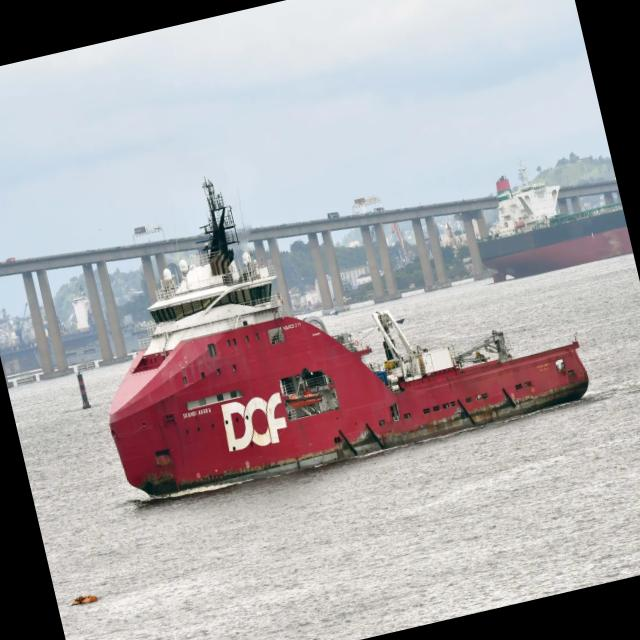Offshore: (110, 182, 588, 494)
Tanker: (478, 176, 632, 282)
